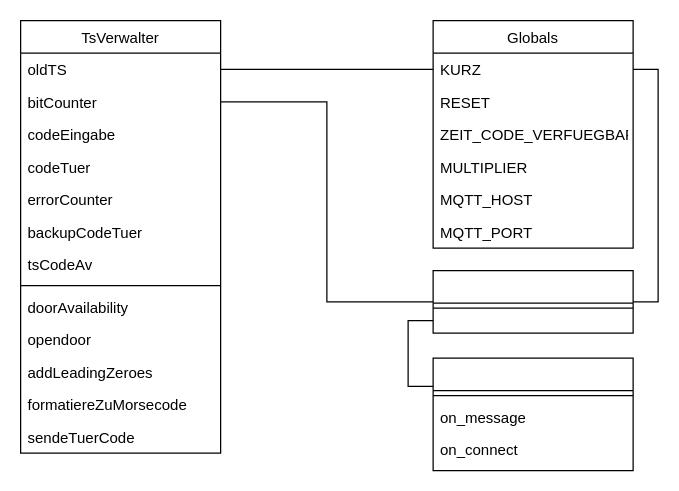
Some shapes in this 679 by 491 pixel diagram are drawn without their labels. The shapes that lost their labels are listed below. From the top down, each one's box as (x1, y1, x2, y2) in pixels, then its label:
(432, 269, 633, 333): MQTT Client
(432, 357, 633, 471): MqqtMethods
